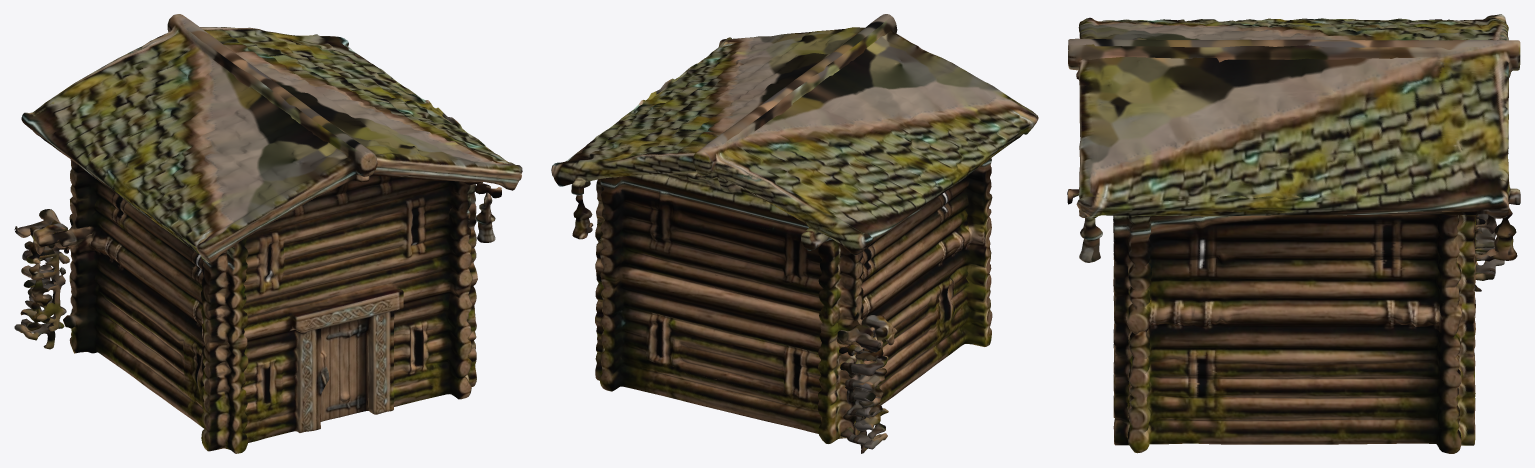
File: struct_outpost_cabin.glb
3 views of the same model, side by side, from view 1: azimuth 30°, elevation 25°; view 2: azimuth 150°, elevation 25°; view 3: azimuth 270°, elevation 25° (orthographic). The views are drawn at different scales.
Visible parts, largest first — view 1: geometry_0; view 2: geometry_0; view 3: geometry_0.
Boxes of the visible parts, x1,y1,x2,y2 form: geometry_0: (14, 14, 522, 453); geometry_0: (551, 14, 1038, 453); geometry_0: (1067, 14, 1520, 453).
Size of the model in its own units: 7.89 by 6.5 by 7.89.
Materials: 1 (1 with a texture image).
